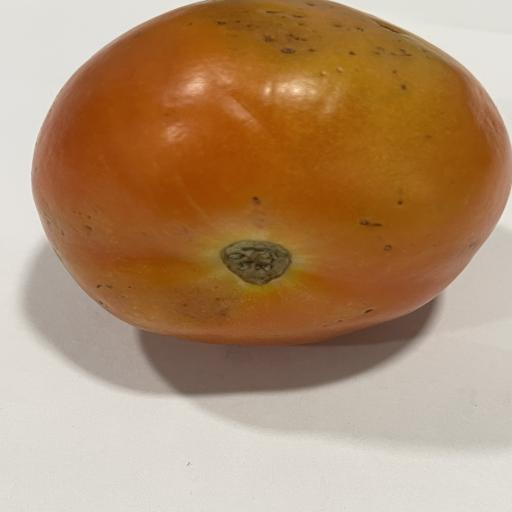unripe: (32, 0, 512, 345)
